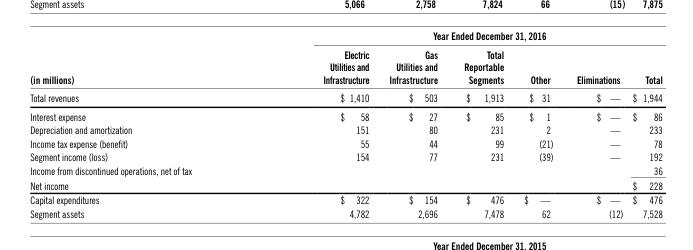table: (29, 29, 661, 219)
table column: (29, 29, 256, 219), (256, 29, 378, 219), (378, 29, 450, 219), (450, 29, 513, 219), (564, 29, 627, 219), (513, 29, 564, 219), (627, 29, 661, 219)
table column header: (29, 29, 661, 88)
table row: (29, 44, 661, 88), (29, 88, 661, 106), (29, 106, 661, 122), (29, 29, 661, 44), (29, 177, 661, 192), (29, 122, 661, 136), (29, 149, 661, 163), (29, 163, 661, 177), (29, 192, 661, 206), (29, 136, 661, 149), (29, 206, 661, 219)
table spanning cell: (29, 29, 256, 88), (256, 29, 661, 44)
